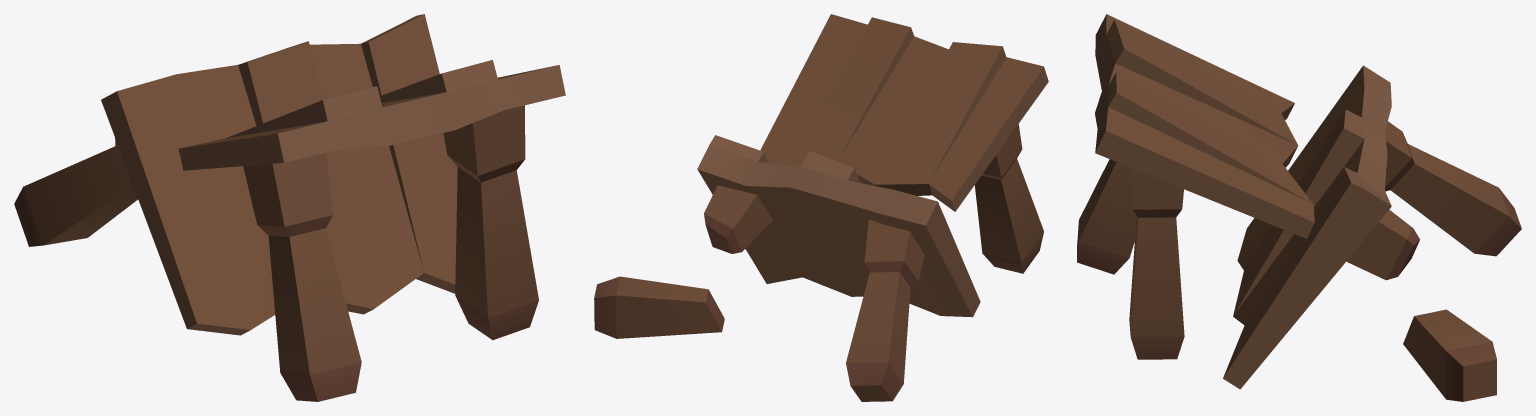
File: Table2.FBX
3 views of the same model, side by side, from view 1: azimuth 30°, elevation 25°; view 2: azimuth 150°, elevation 25°; view 3: azimuth 270°, elevation 25° (orthographic). The views are drawn at different scales.
Visible parts, largest first — view 1: Table2; view 2: Table2; view 3: Table2.
Boxes of the visible parts, x1,y1,x2,y2 form: Table2: (14, 14, 565, 401); Table2: (594, 14, 1048, 401); Table2: (1077, 14, 1521, 401).
Size of the model in its own units: 0.9548 by 0.7155 by 1.06.
